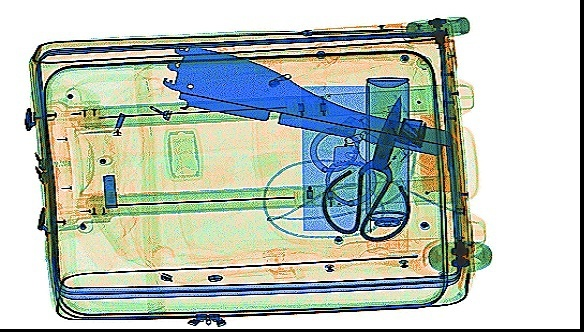handcuffs: (308, 114, 378, 206)
pressure: (362, 74, 411, 254)
scissors: (320, 94, 411, 243)
